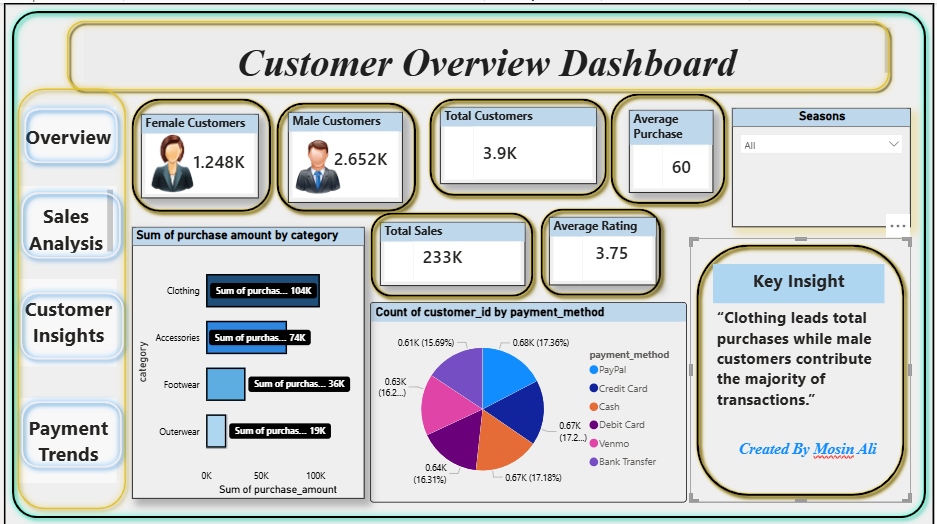

The dashboard page shown, as its layout file describes it:
{"tool":"powerbi","page":{"name":"Overview","canvas":[1280,720],"ordinal":0},"visuals":[{"type":"shape","box":[0,0,1280,720],"z":0},{"type":"shape","box":[10,108.3,167.1,597.1],"z":0,"group":"g10"},{"type":"group","id":"g1","title":"Group 10","box":[826,116,176,170],"z":0,"group":"g9"},{"type":"shape","box":[166,122,210,174],"z":0,"group":"g5"},{"type":"group","id":"g2","title":"Group 9","box":[576,122,262,152],"z":0,"group":"g6"},{"type":"shape","box":[366,128,210,168.3],"z":0,"group":"g4"},{"type":"cardVisual","title":"Total Customers","fields":{"Data":["CountNonNull(cleaned_customer_shopping_data.customer_id)"]},"box":[600,142,216,106],"z":0,"group":"g2"},{"type":"cardVisual","title":"Average Purchase","fields":{"Data":["Avg(cleaned_customer_shopping_data.purchase_amount)"]},"box":[860,148,116,114],"z":0,"group":"g1"},{"type":"group","id":"g3","title":"Group 8","box":[730,274,184,138],"z":0,"group":"g7"},{"type":"shape","box":[730,274,184,138],"z":0,"group":"g3"},{"type":"cardVisual","title":"Total Sales","fields":{"Data":["Sum(cleaned_customer_shopping_data.purchase_amount)"]},"box":[518,302,200,88],"z":0,"group":"g8"},{"type":"shape","box":[944,324,304,364],"z":0,"group":"g11"},{"type":"shape","box":[826,116,176,170],"z":1000,"group":"g1"},{"type":"shape","box":[576,122,262,152],"z":1000,"group":"g2"},{"type":"cardVisual","title":"Male Customers","fields":{"Data":["CountNonNull(cleaned_customer_shopping_data.customer_id)"]},"box":[391,150.7,158.3,124.6],"z":1000,"group":"g4"},{"type":"cardVisual","title":"Female Customers","fields":{"Data":["CountNonNull(cleaned_customer_shopping_data.customer_id)"]},"box":[188,152,162,116],"z":1000,"group":"g5"},{"type":"shape","box":[496,280,242,134],"z":1000,"group":"g8"},{"type":"cardVisual","title":"Average Rating","fields":{"Data":["Avg(cleaned_customer_shopping_data.review_rating)"]},"box":[750,294,148,94],"z":1000,"group":"g3"},{"type":"textbox","title":"Key Insight","box":[976,360,236,54],"z":1000,"group":"g11"},{"type":"pieChart","fields":{"Category":["cleaned_customer_shopping_data.payment_method"],"Y":["CountNonNull(cleaned_customer_shopping_data.customer_id)"]},"box":[504,412,436,276],"z":1000},{"type":"shape","box":[15.7,539.7,155.7,108.6],"z":1000,"group":"g10"},{"type":"image","box":[393.1,177.2,77.1,94.3],"z":2000,"group":"g4"},{"type":"image","box":[190,179,85,85],"z":2000,"group":"g5"},{"type":"shape","box":[15.7,251.2,154.3,108.6],"z":2000,"group":"g10"},{"type":"textbox","box":[976,414,236,162],"z":2000,"group":"g11"},{"type":"shape","box":[20,135.4,145.7,92.9],"z":3000,"group":"g10"},{"type":"clusteredBarChart","title":"Sum of purchase amount by category","fields":{"Category":["cleaned_customer_shopping_data.category"],"Y":["Sum(cleaned_customer_shopping_data.purchase_amount)"]},"box":[176,308,320,374],"z":3000},{"type":"textbox","box":[110,28.3,1115,80],"z":4000},{"type":"shape","box":[14.3,389.7,160,110],"z":4000,"group":"g10"},{"type":"textbox","box":[21.7,143.3,133.3,75],"z":5000},{"type":"textbox","box":[21.7,251.7,133.3,96.7],"z":6000},{"type":"textbox","box":[21.7,380,133.3,120],"z":7000},{"type":"textbox","box":[21.7,543.3,133.3,116.7],"z":8000},{"type":"shape","box":[78,16,1148,112],"z":9000},{"type":"actionButton","box":[21.4,140,114.3,68.6],"z":10000},{"type":"actionButton","box":[21.7,268.3,113.3,80],"z":11000},{"type":"group","id":"g4","title":"Group 1","box":[366,128,210,170],"z":12000},{"type":"group","id":"g5","title":"Group 2","box":[166,122,210,174],"z":13000},{"type":"group","id":"g6","title":"Group 3","box":[576,122,262,152],"z":14000},{"type":"group","id":"g7","title":"Group 4","box":[730,274,184,138],"z":15000},{"type":"group","id":"g8","title":"Group 5","box":[496,280,242,134],"z":16000},{"type":"group","id":"g9","title":"Group 6","box":[826,116,176,170],"z":17000},{"type":"group","id":"g10","title":"Group 7","box":[10,108.3,166.7,596.7],"z":18000},{"type":"slicer","title":"Seasons","fields":{"Values":["cleaned_customer_shopping_data.season"]},"box":[1002,144.5,246.4,163.8],"z":19000},{"type":"group","id":"g11","title":"Group 11","box":[944,324,304,364],"z":20002},{"type":"textbox","box":[1005.9,597.9,207.8,46.8],"z":20003,"group":"g11"}]}

Visuals, with their boxes in screenshot pixels (x1, y1, x2, y2), scaled from the page's 1280x720 canvas onto the 937x524 screenshot:
shape: [0, 0, 936, 523]
shape: [7, 79, 130, 513]
"Group 10" group: [605, 84, 733, 208]
shape: [122, 89, 275, 215]
"Group 9" group: [422, 89, 613, 199]
shape: [268, 93, 422, 216]
"Total Customers" cardVisual: [439, 103, 597, 180]
"Average Purchase" cardVisual: [630, 108, 714, 191]
"Group 8" group: [534, 199, 669, 300]
shape: [534, 199, 669, 300]
"Total Sales" cardVisual: [379, 220, 526, 284]
shape: [691, 236, 914, 501]
shape: [605, 84, 733, 208]
shape: [422, 89, 613, 199]
"Male Customers" cardVisual: [286, 110, 402, 200]
"Female Customers" cardVisual: [138, 111, 256, 195]
shape: [363, 204, 540, 301]
"Average Rating" cardVisual: [549, 214, 657, 282]
"Key Insight" textbox: [714, 262, 887, 301]
pieChart - cleaned_customer_shopping_data.payment_method x CountNonNull(cleaned_customer_shopping_data.customer_id): [369, 300, 688, 501]
shape: [11, 393, 125, 472]
image: [288, 129, 344, 198]
image: [139, 130, 201, 192]
shape: [11, 183, 124, 262]
textbox: [714, 301, 887, 419]
shape: [15, 99, 121, 166]
"Sum of purchase amount by category" clusteredBarChart: [129, 224, 363, 496]
textbox: [81, 21, 897, 79]
shape: [10, 284, 128, 364]
textbox: [16, 104, 113, 159]
textbox: [16, 183, 113, 254]
textbox: [16, 277, 113, 364]
textbox: [16, 395, 113, 480]
shape: [57, 12, 897, 93]
actionButton: [16, 102, 99, 152]
actionButton: [16, 195, 99, 253]
"Group 1" group: [268, 93, 422, 217]
"Group 2" group: [122, 89, 275, 215]
"Group 3" group: [422, 89, 613, 199]
"Group 4" group: [534, 199, 669, 300]
"Group 5" group: [363, 204, 540, 301]
"Group 6" group: [605, 84, 733, 208]
"Group 7" group: [7, 79, 129, 513]
"Seasons" slicer: [733, 105, 914, 224]
"Group 11" group: [691, 236, 914, 501]
textbox: [736, 435, 888, 469]
